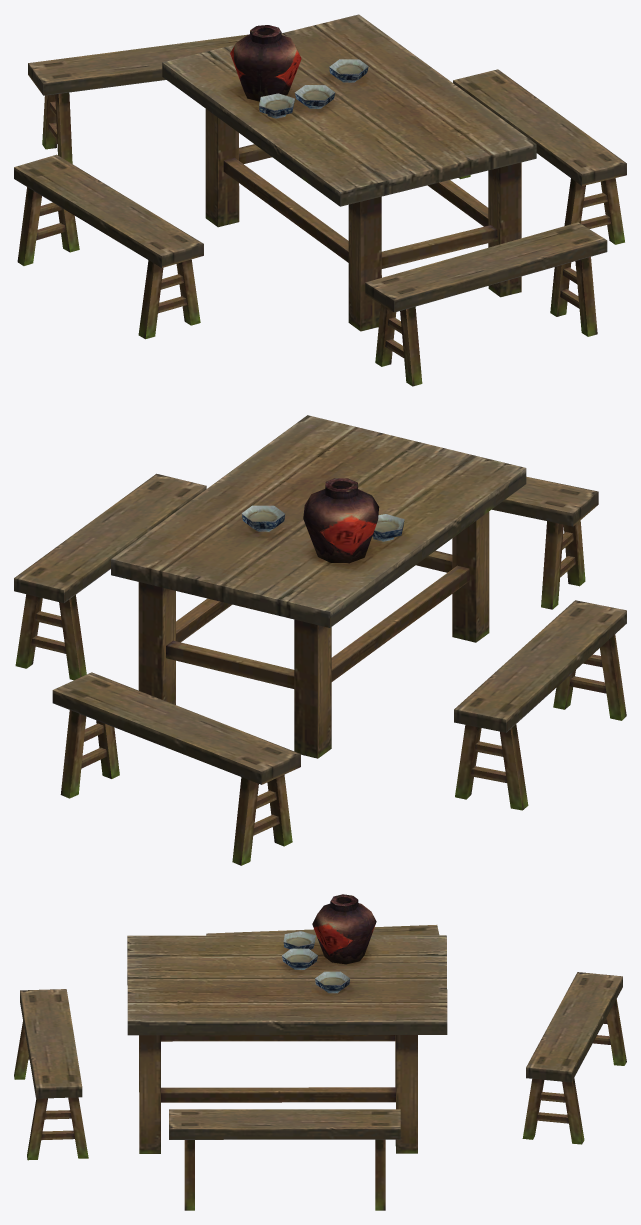
File: xzl_jiuzhuo01_jgc.FBX
3 renders of one model, top to bottom at view 1: azimuth 30°, elevation 25°; view 2: azimuth 150°, elevation 25°; view 3: azimuth 270°, elevation 25°, orthographic. The views are drawn at different scales.
Parts seen in each view (by area): view 1: xzl_jiuzhuo01_jgc; view 2: xzl_jiuzhuo01_jgc; view 3: xzl_jiuzhuo01_jgc.
Part boxes in pixels (x1,y1,x2,y2): xzl_jiuzhuo01_jgc: (14,14,626,386); xzl_jiuzhuo01_jgc: (14,415,626,865); xzl_jiuzhuo01_jgc: (14,894,626,1210).
Size of the model in its own units: 234 by 99.47 by 289.
